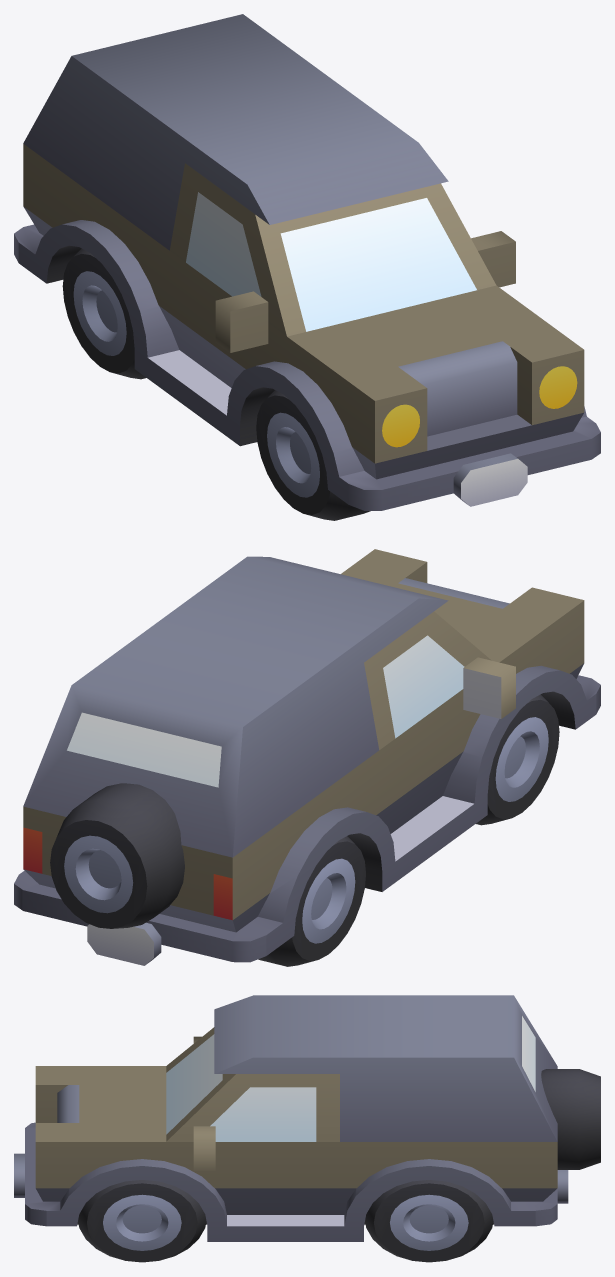
The model's file is suv-beige.glb.
The picture shows the model from 3 angles, top to bottom: view 1: azimuth 30°, elevation 25°; view 2: azimuth 150°, elevation 25°; view 3: azimuth 270°, elevation 25°; orthographic projection. The views are drawn at different scales.
Parts seen in each view (by area): view 1: suv; view 2: suv; view 3: suv.
Part boxes in pixels (x1,y1,x2,y2): suv: (14, 14, 600, 520); suv: (14, 549, 600, 966); suv: (14, 995, 600, 1262).
Bounding box in the file's own units: 1.96 × 1.78 × 4.7.
Materials: 1 (1 with a texture image).
